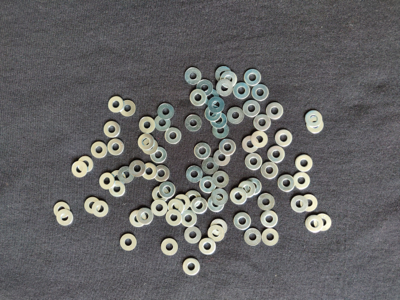circle: (75, 155, 94, 174), (83, 197, 102, 216), (97, 172, 116, 191), (164, 208, 183, 227), (190, 197, 209, 216), (164, 126, 183, 145), (189, 88, 208, 107), (202, 87, 221, 106), (204, 104, 223, 123), (226, 106, 245, 125), (295, 154, 314, 173), (261, 162, 280, 181), (213, 148, 232, 167), (201, 157, 220, 176), (185, 165, 204, 184), (238, 180, 257, 199), (108, 95, 126, 114), (119, 99, 137, 118), (104, 120, 122, 139), (107, 137, 125, 156), (91, 140, 109, 159), (70, 160, 88, 179), (53, 201, 71, 220), (57, 209, 75, 228), (92, 200, 110, 219), (108, 179, 126, 198), (109, 169, 127, 188), (118, 166, 136, 185), (129, 159, 147, 178), (137, 132, 155, 151), (141, 137, 159, 156), (150, 147, 168, 166), (140, 162, 158, 181), (153, 165, 171, 184), (158, 181, 176, 200), (152, 185, 170, 204), (151, 198, 169, 217), (136, 207, 154, 226), (129, 209, 147, 228), (120, 233, 138, 252), (161, 238, 179, 257), (183, 257, 201, 276), (167, 198, 185, 217), (174, 194, 192, 213), (180, 209, 198, 228), (184, 226, 202, 245), (184, 189, 202, 208), (199, 237, 217, 256), (208, 223, 226, 242), (210, 218, 228, 237), (138, 116, 156, 135), (157, 102, 175, 121), (154, 114, 172, 133), (185, 114, 203, 133), (184, 67, 202, 86), (196, 79, 214, 98), (208, 96, 226, 115), (210, 111, 228, 130), (212, 120, 230, 139), (195, 141, 213, 160), (216, 78, 234, 97), (220, 70, 238, 89), (215, 66, 233, 85), (233, 82, 251, 101), (244, 68, 262, 87), (252, 83, 270, 102), (243, 100, 261, 119), (266, 102, 284, 121), (305, 110, 323, 129), (307, 116, 325, 135), (254, 113, 272, 132), (275, 129, 293, 148), (251, 129, 269, 148), (242, 135, 260, 154), (268, 145, 286, 164), (245, 153, 263, 172), (278, 174, 296, 193), (294, 172, 312, 191), (291, 195, 309, 214), (301, 193, 319, 212), (306, 215, 324, 234), (315, 213, 333, 232), (219, 137, 237, 156), (199, 175, 217, 194), (212, 170, 230, 189), (211, 188, 229, 207), (230, 187, 248, 206), (207, 195, 225, 214), (245, 178, 263, 197), (258, 193, 276, 212), (260, 211, 278, 230), (234, 212, 252, 231), (244, 228, 262, 247), (262, 228, 280, 247)
